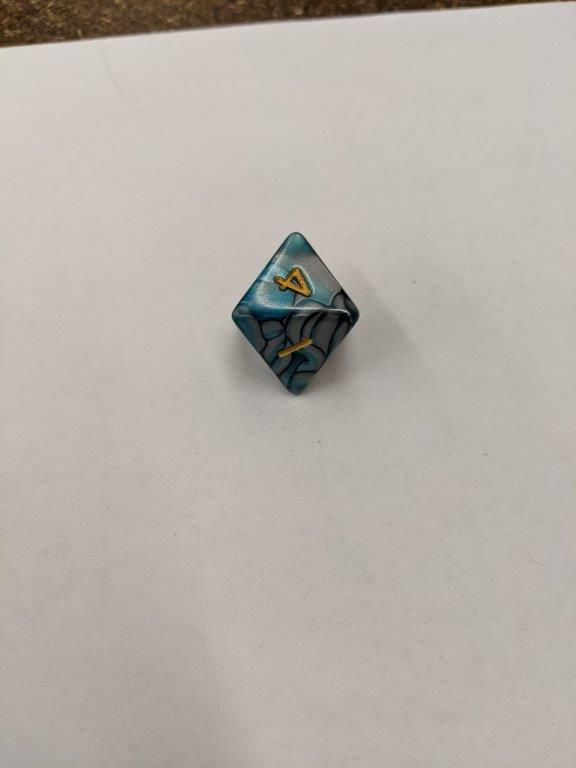d8-4: (232, 233, 362, 399)
